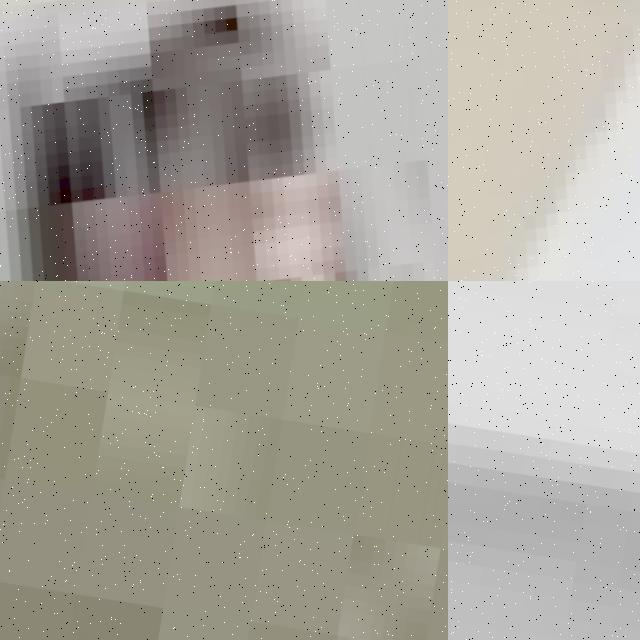drone: (0, 0, 448, 281), (448, 0, 640, 281)
